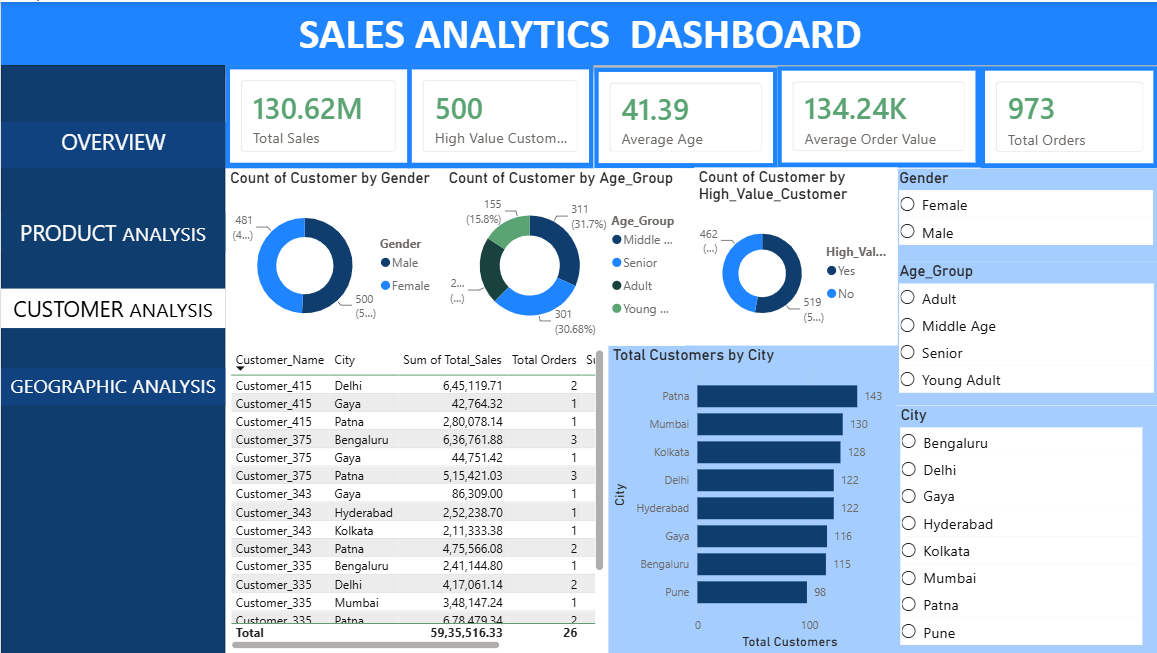

The page's visual inventory and layout, read from the dashboard file:
{"tool":"powerbi","page":{"name":"CUSTOMER ANALYSIS","canvas":[1280,720],"ordinal":2},"visuals":[{"type":"textbox","box":[0,0,1279.4,69.7],"z":0},{"type":"shape","box":[0,69.3,247.6,651.2],"z":1000},{"type":"textbox","box":[0,132.3,248,50.6],"z":2000},{"type":"textbox","box":[0,232.7,247.6,43.3],"z":3000},{"type":"textbox","box":[0,316.9,247.6,43.3],"z":4000},{"type":"textbox","box":[0,404.8,247.6,40.9],"z":5000},{"type":"cardVisual","fields":{"Data":["sales_data_cleaned.Total Sales"]},"box":[248,69.1,205.2,113.8],"z":6000},{"type":"cardVisual","fields":{"Data":["sales_data_cleaned.High Value Customers"]},"box":[449.4,69.1,205.2,113.8],"z":7000},{"type":"cardVisual","fields":{"Data":["sales_data_cleaned.Total Orders"]},"box":[1081.6,71,197.4,112.8],"z":8000},{"type":"cardVisual","fields":{"Data":["sales_data_cleaned.Average Order Value"]},"box":[856.9,71,224.7,111.9],"z":9000},{"type":"barChart","fields":{"Category":["sales_data_cleaned.City"],"Y":["sales_data_cleaned.Total Customers"]},"box":[670.2,379.3,318.1,340.4],"z":10000},{"type":"listSlicer","fields":{"Values":["sales_data_cleaned.Gender"]},"box":[987.2,183.8,291.8,103.1],"z":11000},{"type":"listSlicer","fields":{"Values":["sales_data_cleaned.Age_Group"]},"box":[987.2,286.9,292.8,158.5],"z":12000},{"type":"cardVisual","fields":{"Data":["sales_data_cleaned.Average Age"]},"box":[654.6,72,202.3,110.9],"z":13000},{"type":"listSlicer","fields":{"Values":["sales_data_cleaned.City"]},"box":[988.2,445.5,290.8,274.3],"z":14000},{"type":"donutChart","fields":{"Category":["sales_data_cleaned.Gender"],"Y":["CountNonNull(sales_data_cleaned.Customer_ID)"]},"box":[248,183.8,241.2,195.5],"z":15000},{"type":"donutChart","fields":{"Y":["CountNonNull(sales_data_cleaned.Customer_ID)"],"Category":["sales_data_cleaned.Age_Group"]},"box":[489.2,183.8,266.5,195.5],"z":16000},{"type":"donutChart","fields":{"Y":["CountNonNull(sales_data_cleaned.Customer)"],"Category":["sales_data_cleaned.High_Value_Customer"]},"box":[764.5,182.9,224.7,196.5],"z":17000},{"type":"tableEx","fields":{"Values":["sales_data_cleaned.Customer_Name","sales_data_cleaned.City","Sum(sales_data_cleaned.Total_Sales)","sales_data_cleaned.Total Orders","Sum(sales_data_cleaned.Avg_Selling_Price)"]},"box":[248,379.3,422.1,340.4],"z":18000},{"type":"shape","box":[0,318.1,248,43.8],"z":18001},{"type":"shape","box":[0,232.5,248,43.8],"z":18002},{"type":"shape","box":[0,135.2,248,43.8],"z":18003},{"type":"shape","box":[0,401.7,248,43.8],"z":18004}]}

Visuals, with their boxes in screenshot pixels (x1, y1, x2, y2), scaled from the page's 1280x720 canvas onto the 1157x653 screenshot:
textbox: BBox(0, 0, 1156, 63)
shape: BBox(0, 63, 224, 652)
textbox: BBox(0, 120, 224, 166)
textbox: BBox(0, 211, 224, 250)
textbox: BBox(0, 287, 224, 327)
textbox: BBox(0, 367, 224, 404)
cardVisual - sales_data_cleaned.Total Sales: BBox(224, 63, 410, 166)
cardVisual - sales_data_cleaned.High Value Customers: BBox(406, 63, 592, 166)
cardVisual - sales_data_cleaned.Total Orders: BBox(978, 64, 1156, 167)
cardVisual - sales_data_cleaned.Average Order Value: BBox(775, 64, 978, 166)
barChart - sales_data_cleaned.City x sales_data_cleaned.Total Customers: BBox(606, 344, 893, 652)
listSlicer - sales_data_cleaned.Gender: BBox(892, 167, 1156, 260)
listSlicer - sales_data_cleaned.Age_Group: BBox(892, 260, 1156, 404)
cardVisual - sales_data_cleaned.Average Age: BBox(592, 65, 775, 166)
listSlicer - sales_data_cleaned.City: BBox(893, 404, 1156, 652)
donutChart - sales_data_cleaned.Gender x CountNonNull(sales_data_cleaned.Customer_ID): BBox(224, 167, 442, 344)
donutChart - CountNonNull(sales_data_cleaned.Customer_ID) x sales_data_cleaned.Age_Group: BBox(442, 167, 683, 344)
donutChart - CountNonNull(sales_data_cleaned.Customer) x sales_data_cleaned.High_Value_Customer: BBox(691, 166, 894, 344)
tableEx - sales_data_cleaned.Customer_Name x sales_data_cleaned.City: BBox(224, 344, 606, 652)
shape: BBox(0, 288, 224, 328)
shape: BBox(0, 211, 224, 251)
shape: BBox(0, 123, 224, 162)
shape: BBox(0, 364, 224, 404)
